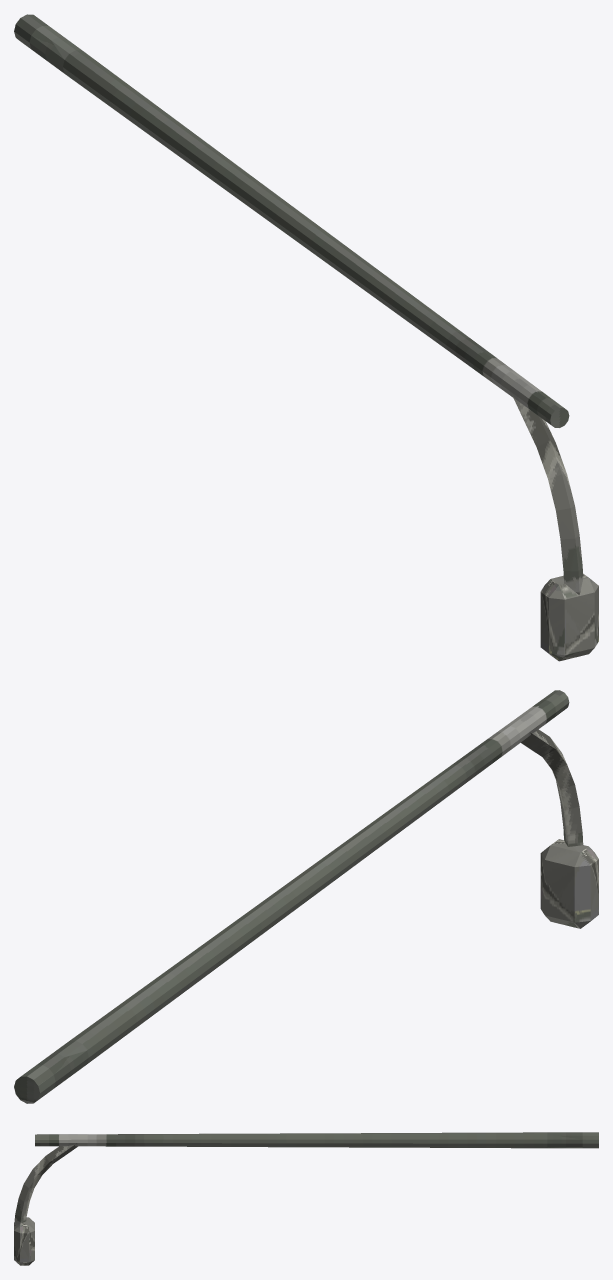
Rendered from pz_street_pole_11.obj.
3 renders of one model, top to bottom at view 1: azimuth 30°, elevation 25°; view 2: azimuth 150°, elevation 25°; view 3: azimuth 270°, elevation 25°, orthographic. The views are drawn at different scales.
Parts seen in each view (by area): view 1: pz_street_pole_11_|_tapered_native_street_pole, pz_street_pole_11_|_rounded_street_lamp_head, pz_street_pole_11_|_EDITABLE_curved_street_lamp_arm; view 2: pz_street_pole_11_|_tapered_native_street_pole, pz_street_pole_11_|_rounded_street_lamp_head, pz_street_pole_11_|_EDITABLE_curved_street_lamp_arm; view 3: pz_street_pole_11_|_tapered_native_street_pole, pz_street_pole_11_|_EDITABLE_curved_street_lamp_arm, pz_street_pole_11_|_rounded_street_lamp_head.
Boxes of the visible parts, box(x1,y1,x2,y2) form: pz_street_pole_11_|_tapered_native_street_pole: box(14, 14, 569, 427); pz_street_pole_11_|_rounded_street_lamp_head: box(540, 573, 598, 661); pz_street_pole_11_|_EDITABLE_curved_street_lamp_arm: box(511, 393, 583, 594); pz_street_pole_11_|_tapered_native_street_pole: box(14, 690, 569, 1103); pz_street_pole_11_|_rounded_street_lamp_head: box(540, 839, 598, 928); pz_street_pole_11_|_EDITABLE_curved_street_lamp_arm: box(521, 729, 583, 846); pz_street_pole_11_|_tapered_native_street_pole: box(35, 1132, 598, 1148); pz_street_pole_11_|_EDITABLE_curved_street_lamp_arm: box(14, 1143, 77, 1226); pz_street_pole_11_|_rounded_street_lamp_head: box(14, 1217, 34, 1265).
Size of the model in its own units: 0.13 by 0.604 by 2.49.
Materials: 1 (1 with a texture image).
